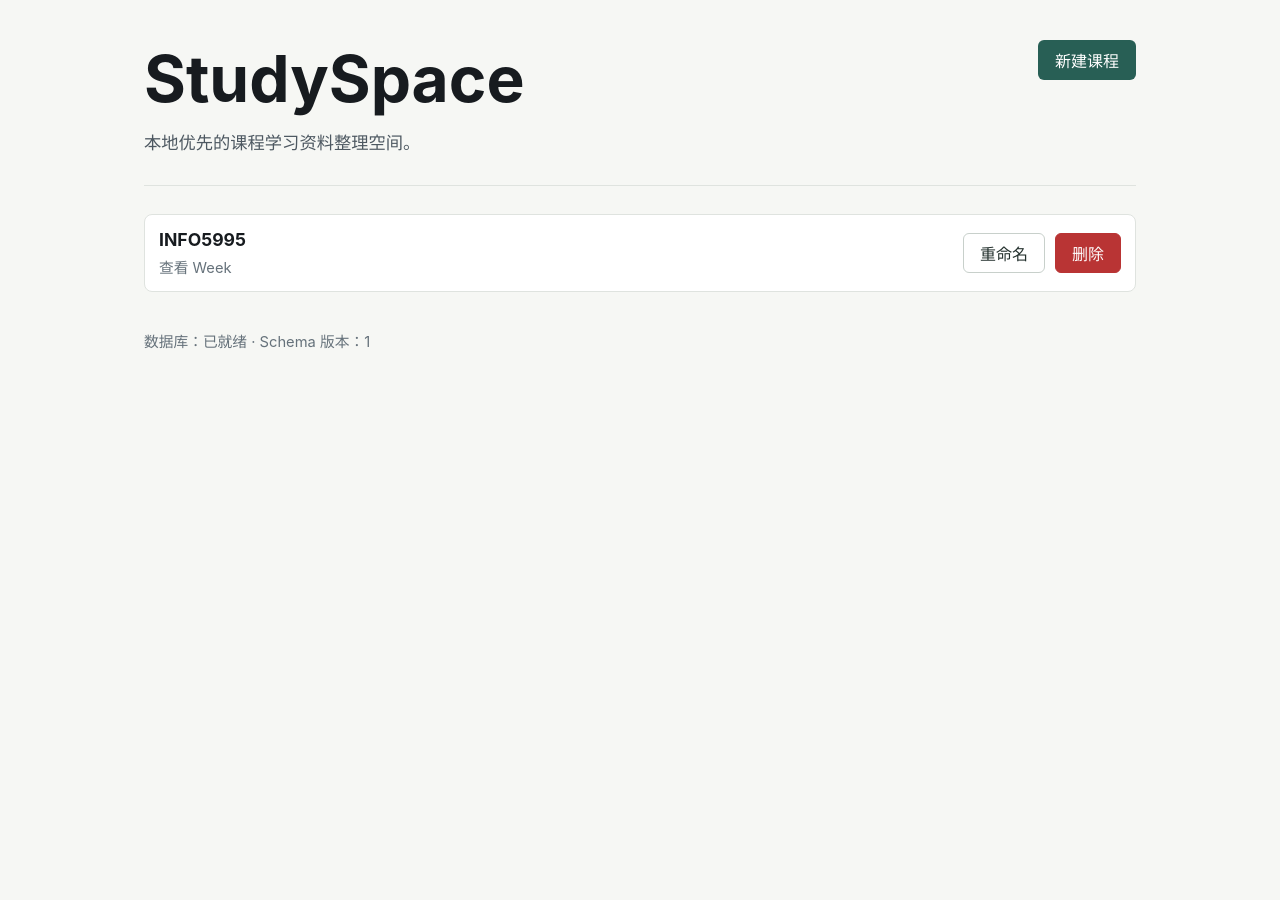
Test: HomePage course management › 删除成功后课程从列表移除
Click the button "删除" at (1088, 253), box [1055, 233, 1121, 273]
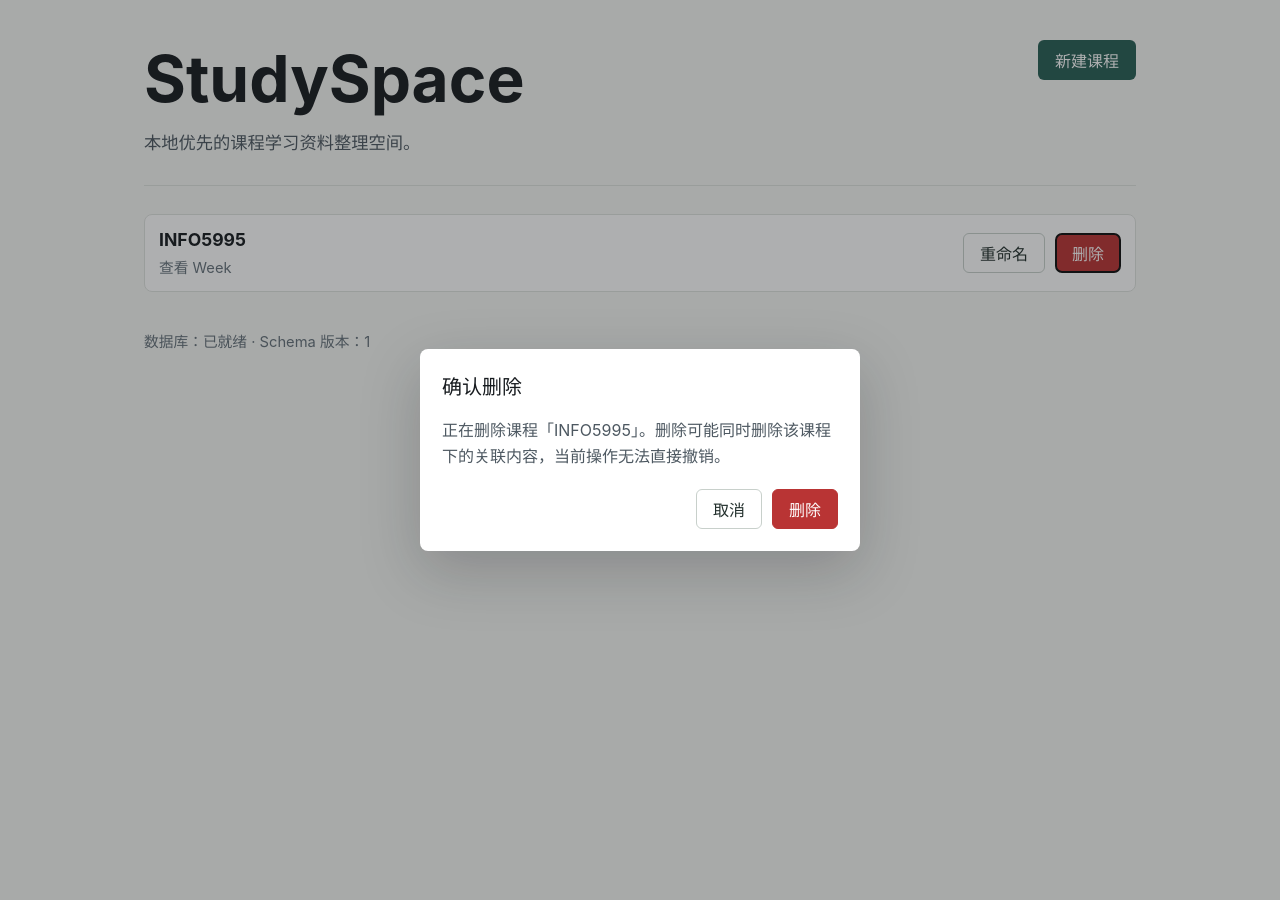
Click the button "删除" at (805, 509), box [772, 489, 838, 529]
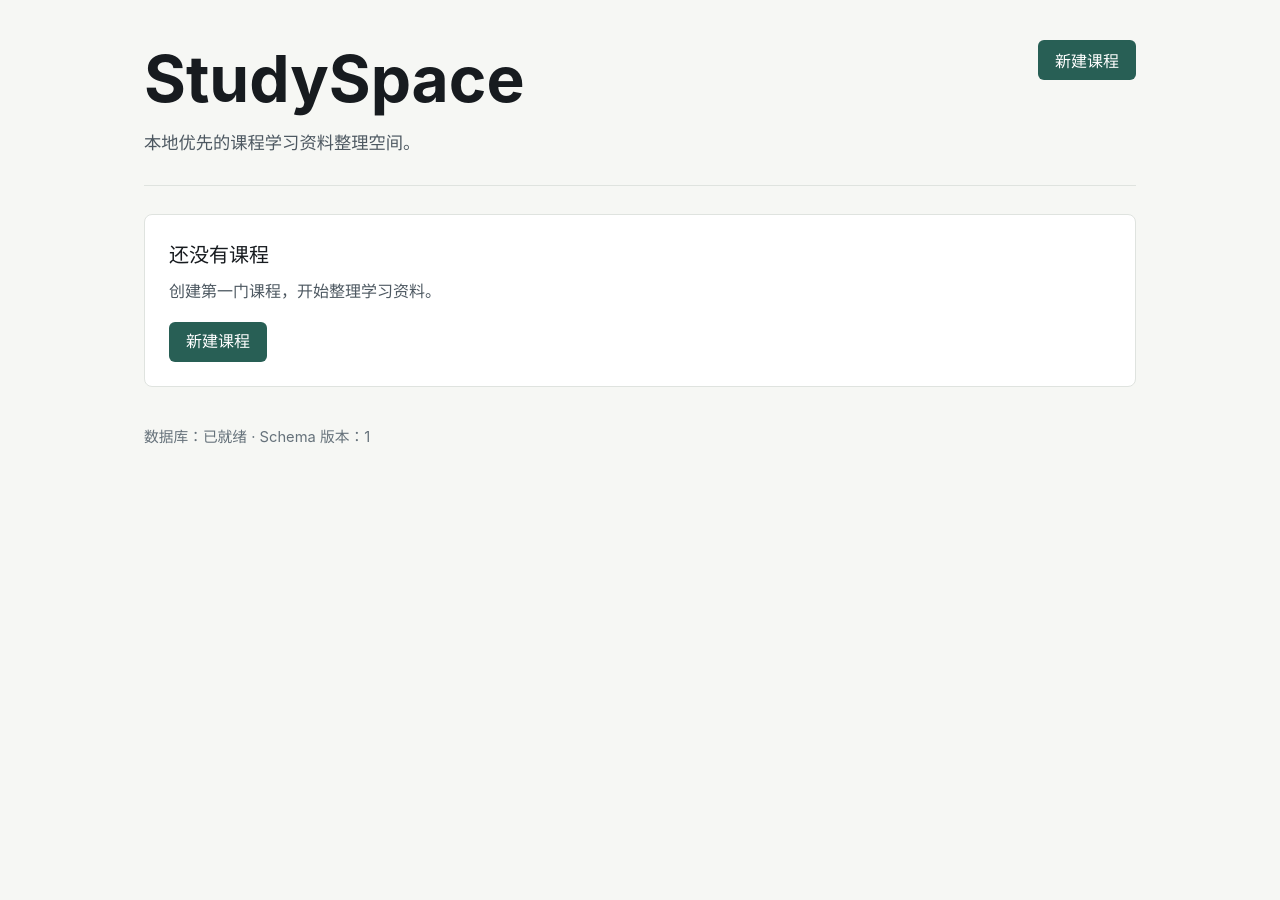
Expected: the button "INFO5995" is gone
Expected: the heading "还没有课程" is shown, [169, 243, 269, 267]
